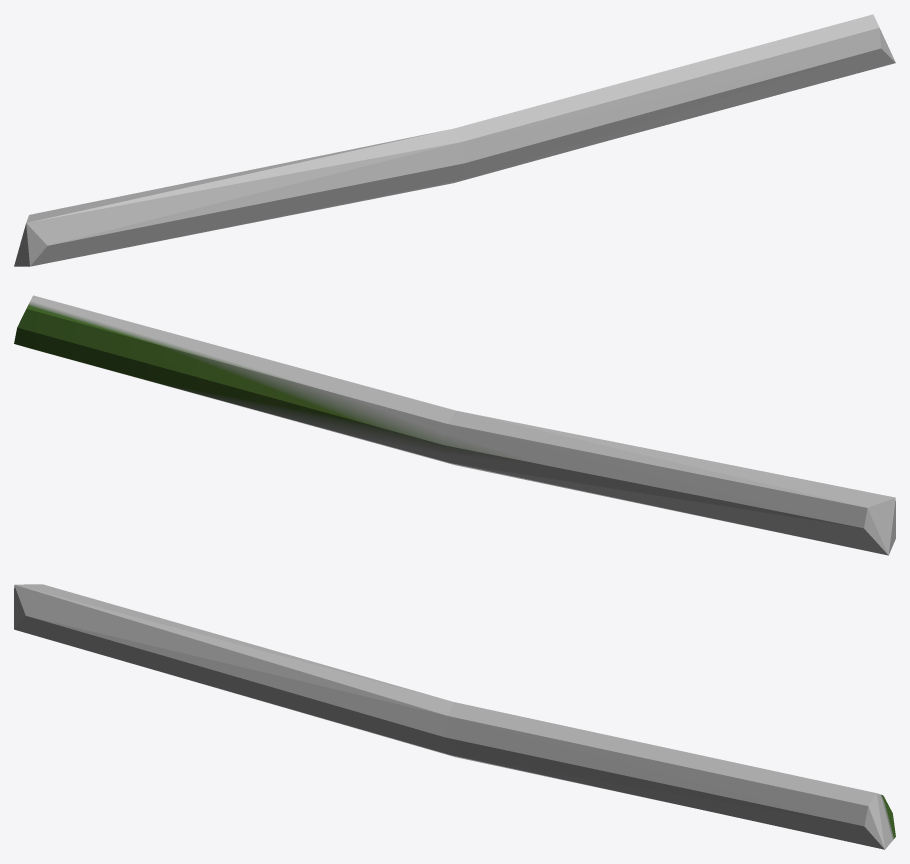
File: Fence_03.fbx
3 views of the same model, one above another, from view 1: azimuth 30°, elevation 25°; view 2: azimuth 150°, elevation 25°; view 3: azimuth 330°, elevation 25° (orthographic).
Visible parts, largest first — view 1: Fence_03; view 2: Fence_03; view 3: Fence_03.
Part boxes in pixels (x1,y1,x2,y2): Fence_03: [14, 14, 895, 266]; Fence_03: [14, 295, 895, 555]; Fence_03: [14, 584, 895, 849].
Bounding box in the file's own units: 4.07 × 0.3107 × 0.1654.
